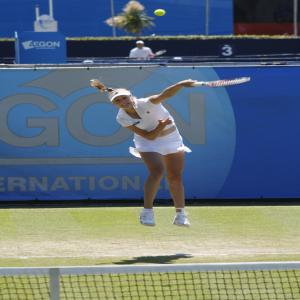TennisBall: (155, 10, 166, 16)
